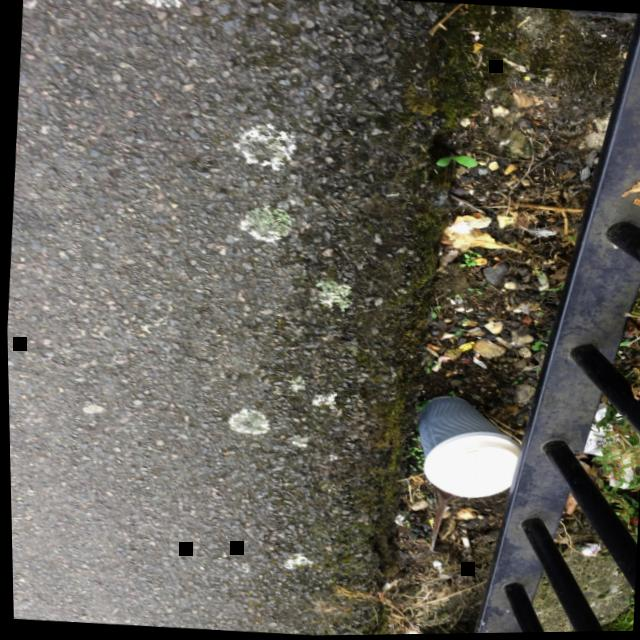Normal paper: (580, 403, 611, 457)
Paper cup: (414, 396, 518, 498)
Plastic lid: (421, 434, 517, 497)
Unlabeled litter: (578, 543, 597, 557)
